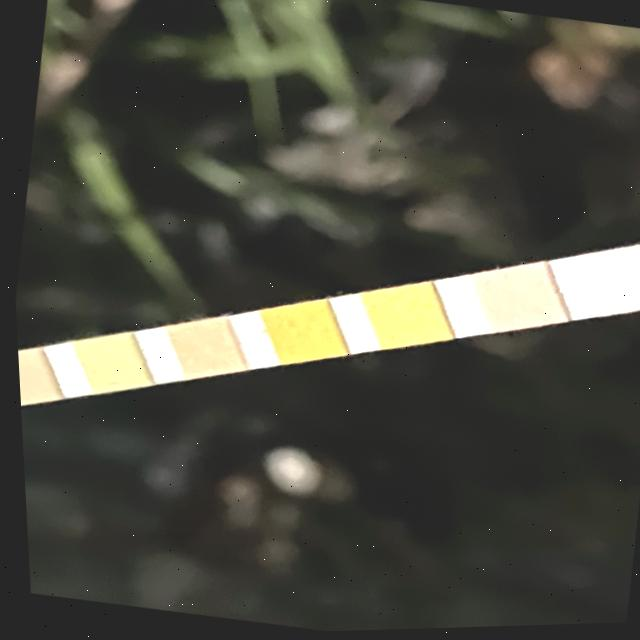Bilirubin: (591, 254, 640, 311)
Blood: (267, 309, 329, 361)
Ketone: (480, 275, 550, 329)
Protein: (81, 344, 134, 389)
SpGravity: (370, 292, 434, 347)
Urobilinogen: (15, 355, 46, 402)
pH: (171, 326, 225, 372)
